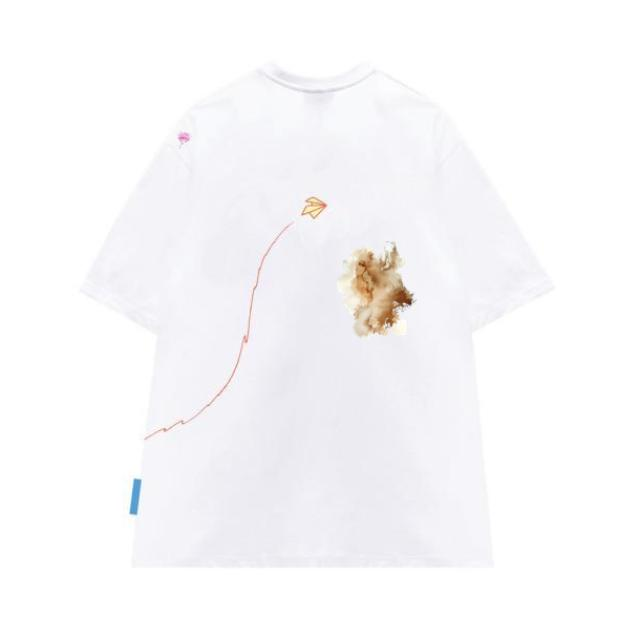stain: (343, 245, 410, 332), (176, 130, 190, 153)
